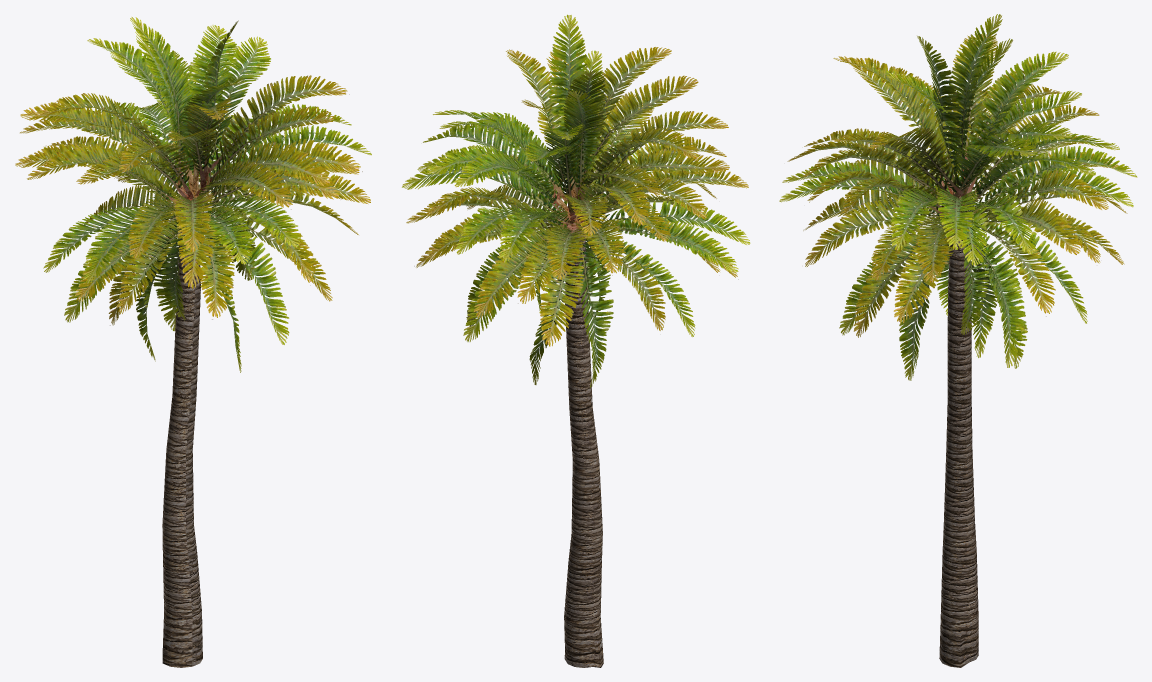
Rendered from palmier-dattier-2.glb.
The picture shows the model from 3 angles, left to right: view 1: azimuth 30°, elevation 25°; view 2: azimuth 150°, elevation 25°; view 3: azimuth 270°, elevation 25°; orthographic projection. The views are drawn at different scales.
Parts seen in each view (by area): view 1: palm.001; view 2: palm.001; view 3: palm.001.
Boxes of the visible parts, x1=… form: palm.001: x1=15, y1=17, x2=371, y2=667; palm.001: x1=402, y1=14, x2=750, y2=667; palm.001: x1=779, y1=14, x2=1137, y2=667.
Bounding box in the file's own units: 3.69 × 7.16 × 3.63.
Materials: 1 (1 with a texture image).
